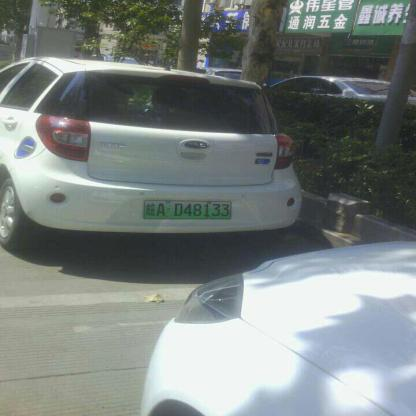lp: (143, 197, 232, 219)
